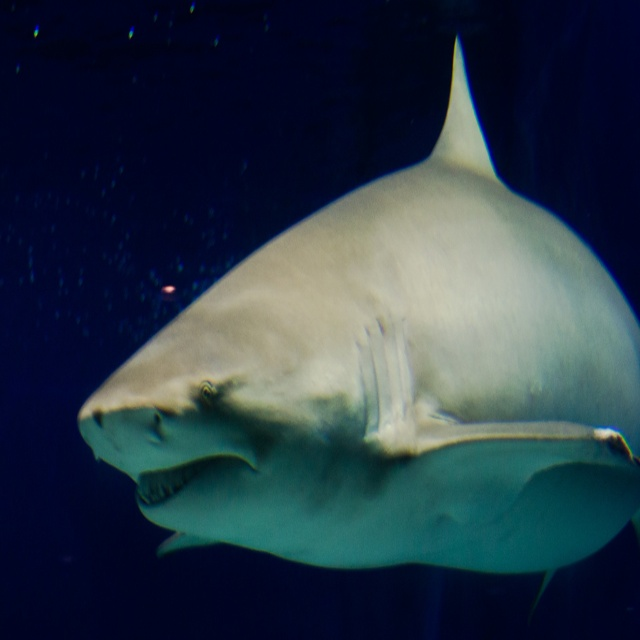Shark: (76, 36, 635, 611)
